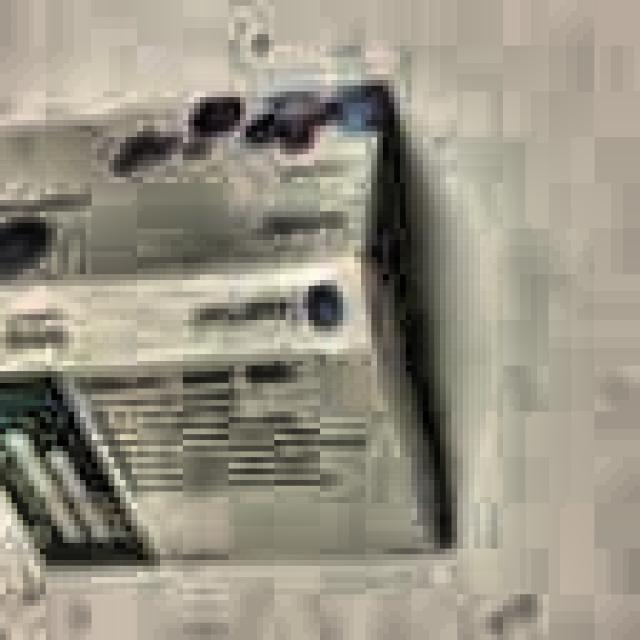paper: (0, 80, 457, 549)
